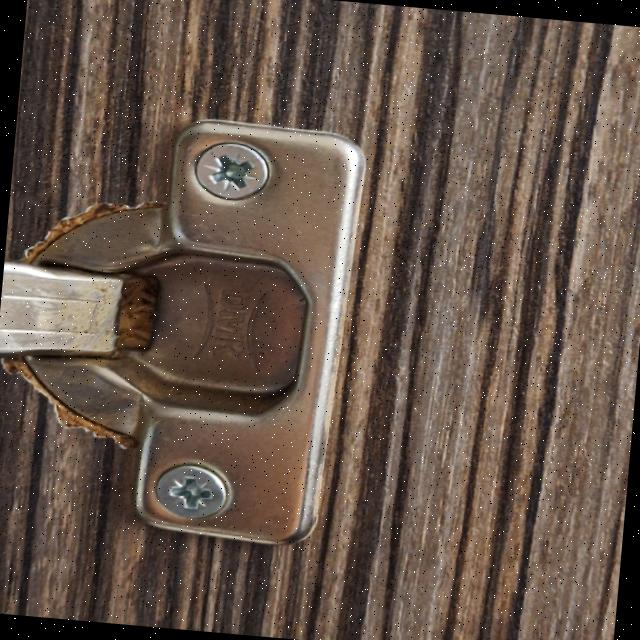Phillips: (153, 461, 228, 520)
Pozidriv: (190, 144, 272, 204), (151, 460, 229, 522)
